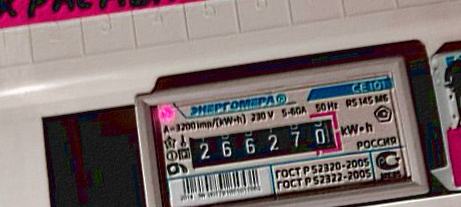0: (312, 125, 326, 147)
2: (196, 139, 213, 162), (266, 132, 280, 153)
6: (219, 138, 234, 160), (243, 135, 257, 155)
7: (288, 128, 303, 149)
screen: (174, 103, 353, 183)
